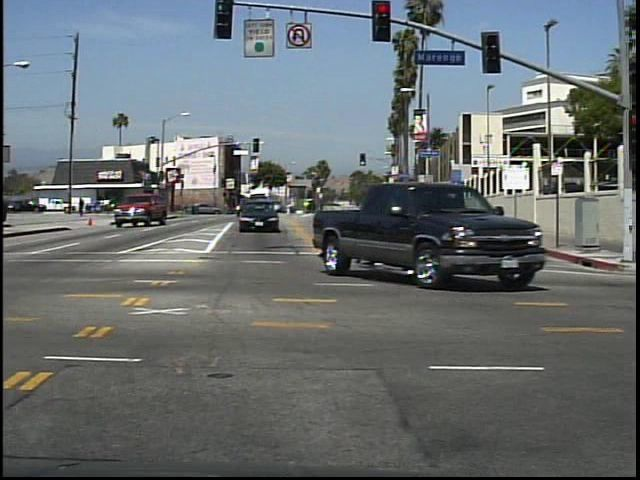person: (77, 194, 91, 219)
